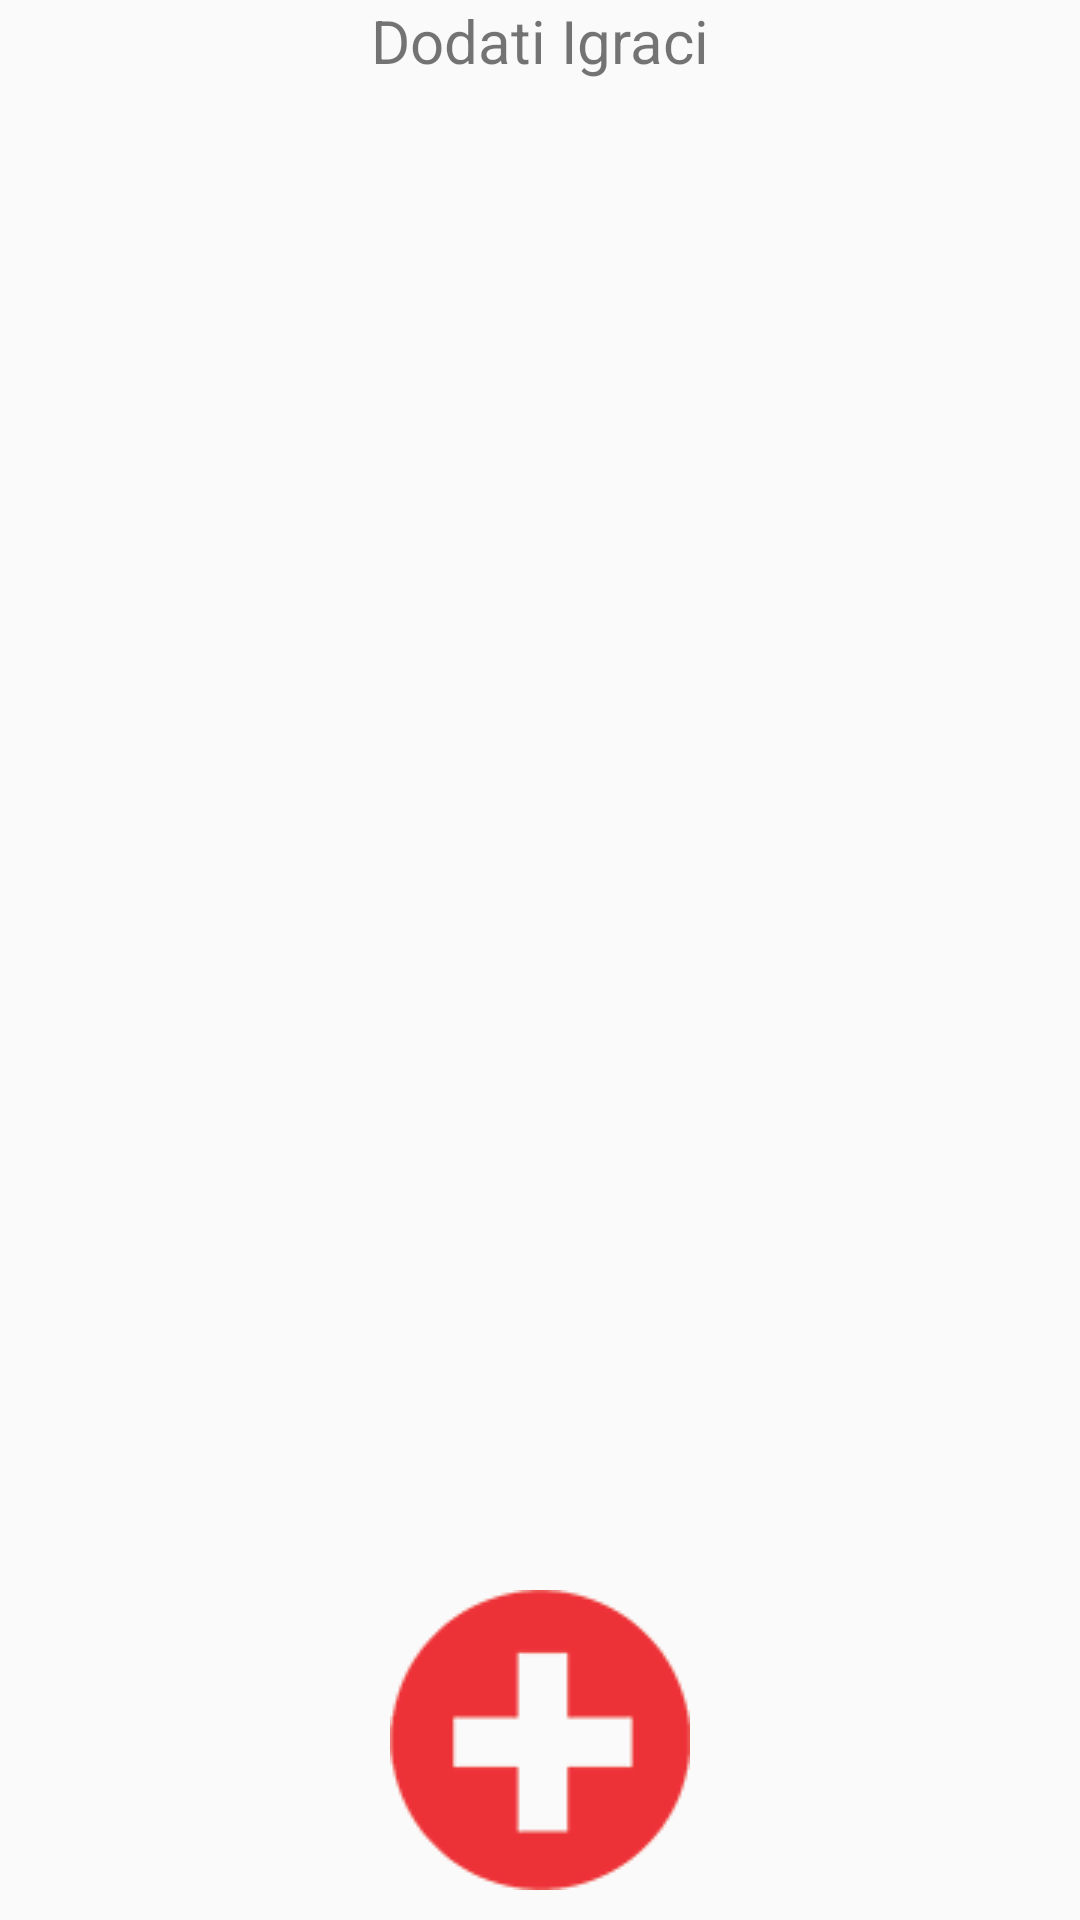

Icons on this 1080*1920 Android screen, each with its box as (x1,y1,x2,y2):
add: (390,1590,690,1890)
